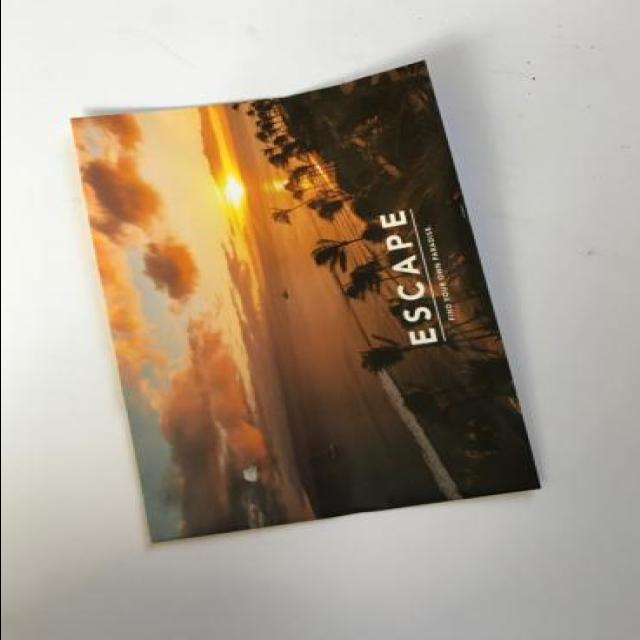kertas: (67, 60, 544, 547)
